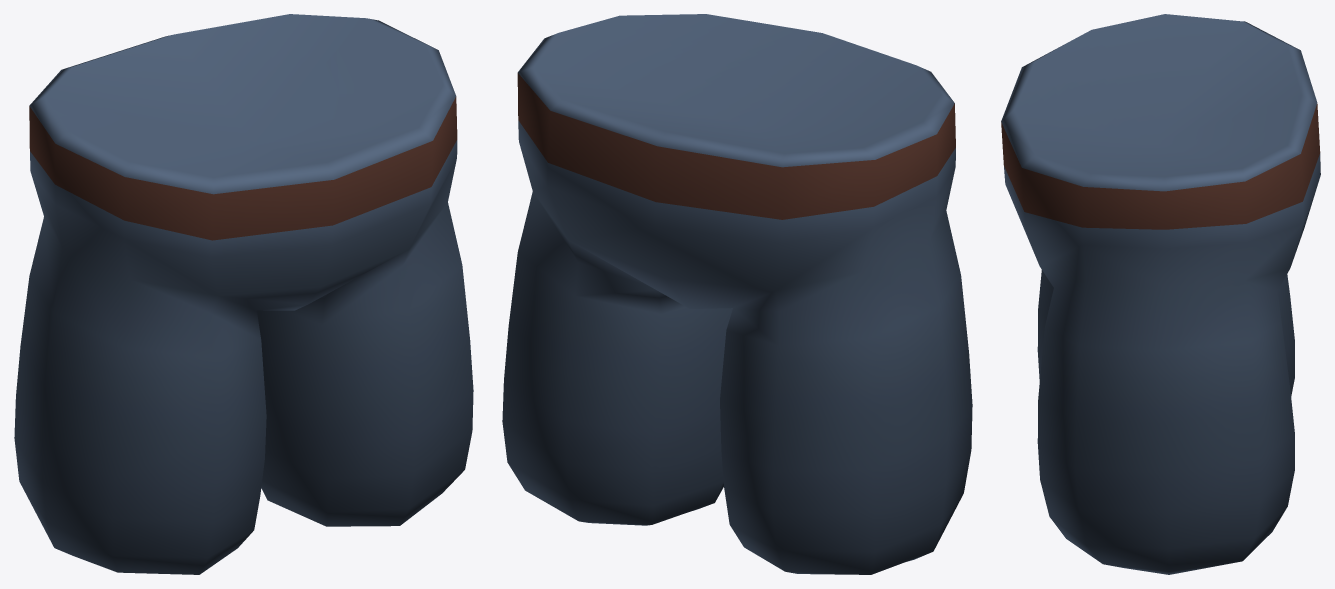
Rendered from Bottom_37.fbx.
3 renders of one model, left to right at view 1: azimuth 30°, elevation 25°; view 2: azimuth 150°, elevation 25°; view 3: azimuth 270°, elevation 25°, orthographic. The views are drawn at different scales.
Visible parts, largest first — view 1: Bottom_37; view 2: Bottom_37; view 3: Bottom_37.
Boxes of the visible parts, box(x1,y1,x2,y2) form: Bottom_37: box(14, 14, 473, 574); Bottom_37: box(502, 14, 972, 574); Bottom_37: box(1001, 14, 1320, 574).
Size of the model in its own units: 40.89 by 41.56 by 29.68.
